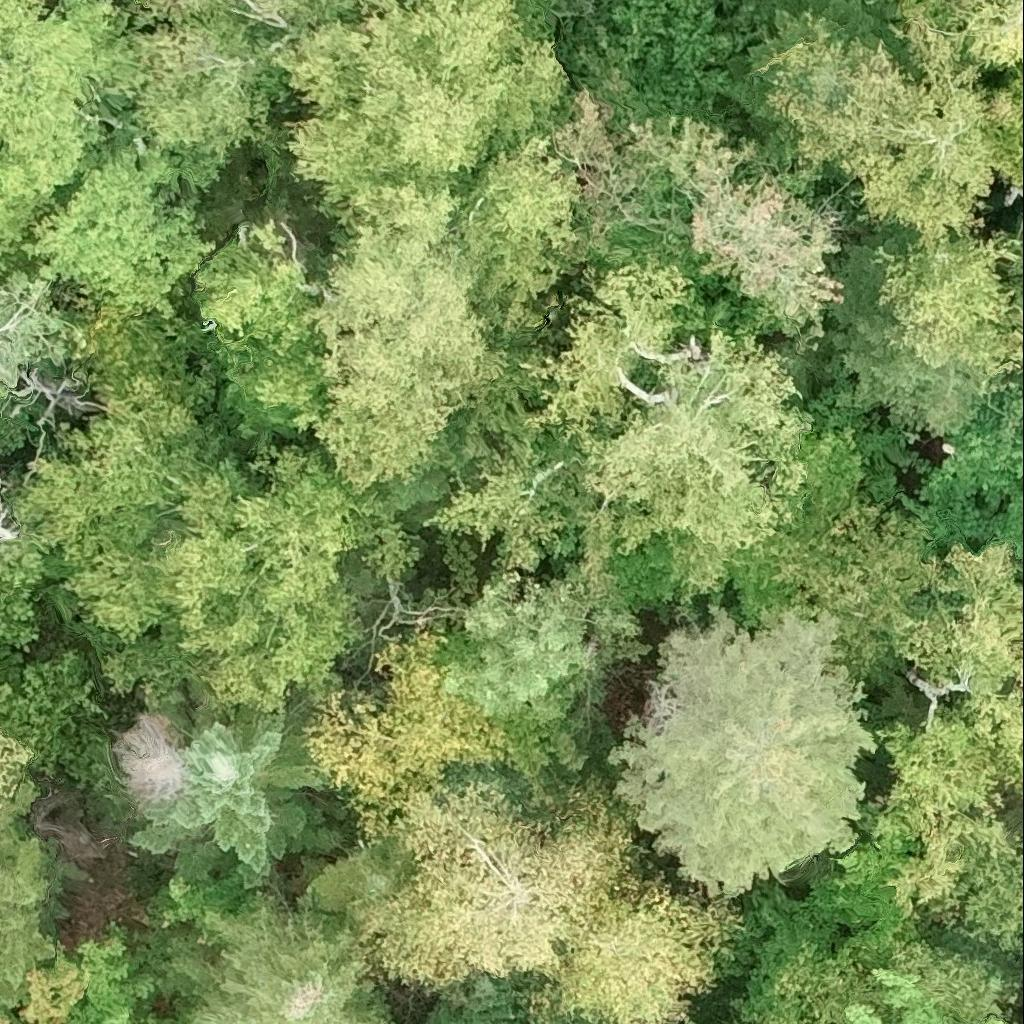crown: (9, 378, 420, 729), (424, 257, 818, 605), (274, 0, 579, 342), (292, 185, 542, 493), (349, 780, 649, 991), (755, 12, 995, 255), (303, 629, 557, 846), (880, 541, 1023, 917), (95, 0, 366, 198), (0, 0, 155, 280), (735, 506, 980, 680), (824, 219, 1010, 438), (128, 705, 339, 889), (529, 875, 745, 1023), (191, 218, 335, 438), (23, 149, 214, 310), (164, 893, 397, 1023), (724, 942, 1021, 1023), (871, 233, 1023, 389), (926, 363, 1023, 591), (75, 301, 219, 424), (0, 919, 153, 1023), (952, 0, 1023, 186), (0, 780, 58, 1004), (0, 270, 82, 413), (929, 838, 1023, 951), (153, 869, 259, 945), (112, 715, 188, 814), (873, 969, 1001, 1023), (428, 969, 542, 1023), (891, 0, 959, 41), (0, 727, 34, 802), (742, 996, 821, 1023), (0, 479, 21, 543), (1001, 246, 1023, 305), (846, 1004, 882, 1023), (132, 1010, 180, 1023), (0, 259, 2, 272), (1020, 360, 1023, 365), (551, 1021, 557, 1023)
